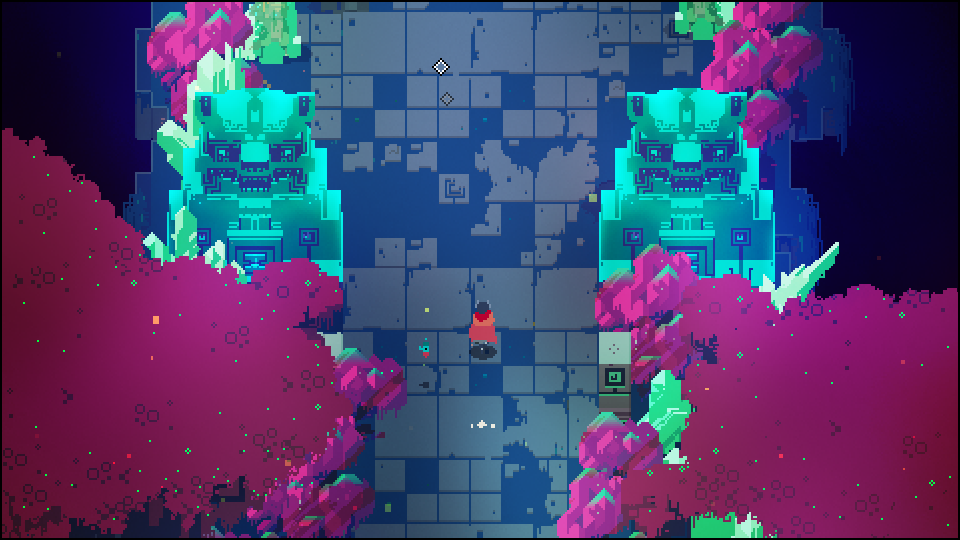player: (467, 299, 499, 355)
